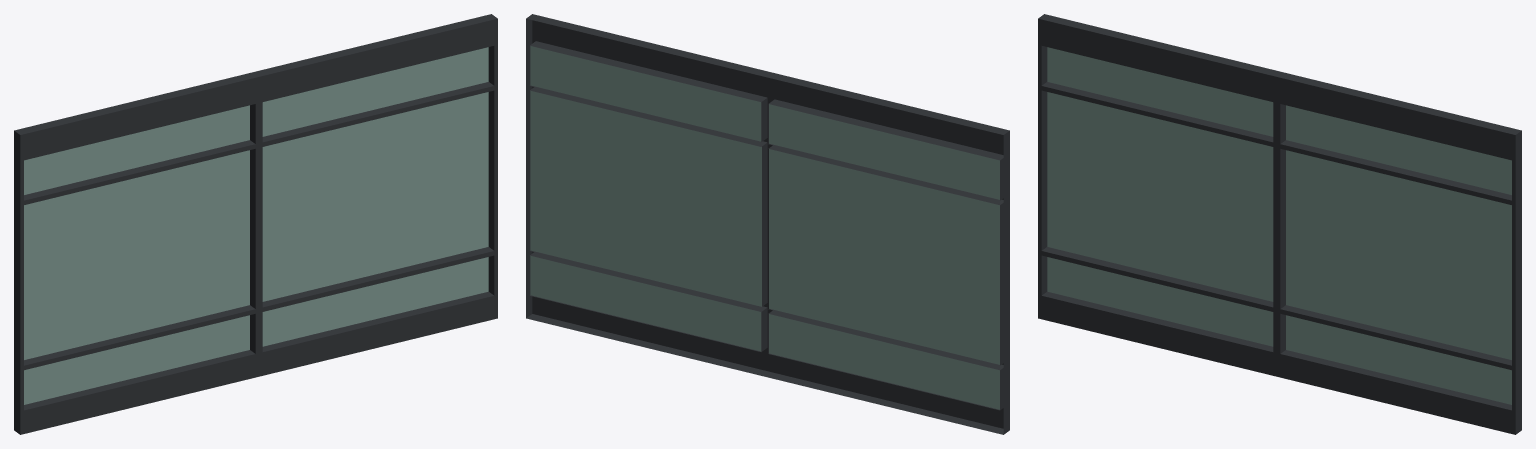
Rendered from Wall_Glass_01.glb.
The picture shows the model from 3 angles, left to right: view 1: azimuth 30°, elevation 25°; view 2: azimuth 150°, elevation 25°; view 3: azimuth 330°, elevation 25°; orthographic projection.
Visible parts, largest first — view 1: SM_Env_Wall_Glass_Glass_01, SM_Env_Wall_Glass_01; view 2: SM_Env_Wall_Glass_Glass_01, SM_Env_Wall_Glass_01; view 3: SM_Env_Wall_Glass_Glass_01, SM_Env_Wall_Glass_01.
Part boxes in pixels (box(x1,y1,x2,y2)): SM_Env_Wall_Glass_Glass_01: box(24, 47, 488, 404); SM_Env_Wall_Glass_01: box(14, 14, 497, 434); SM_Env_Wall_Glass_Glass_01: box(530, 46, 999, 409); SM_Env_Wall_Glass_01: box(526, 14, 1009, 434); SM_Env_Wall_Glass_Glass_01: box(1047, 47, 1511, 404); SM_Env_Wall_Glass_01: box(1038, 14, 1521, 434).
Size of the model in its own units: 5 by 3 by 0.1145.
2 materials, 1 textured.
